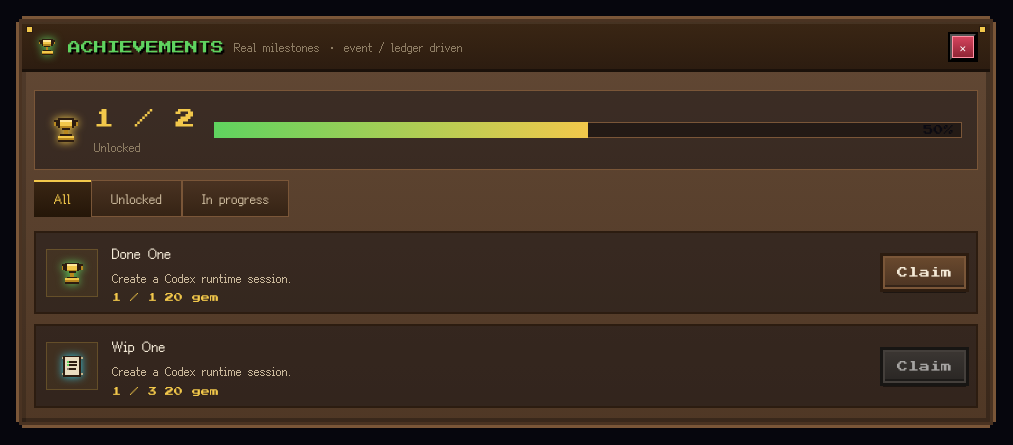
Test: tabs filter achievements by all / unlocked / progress
Expected: the text "Done One" is shown, [112,243,172,264]
Expected: the text "Wip One" is shown, [112,336,166,357]
# unlocked tab: only completed
Click the tab "Unlocked" at (137, 198), box [91,180,182,217]
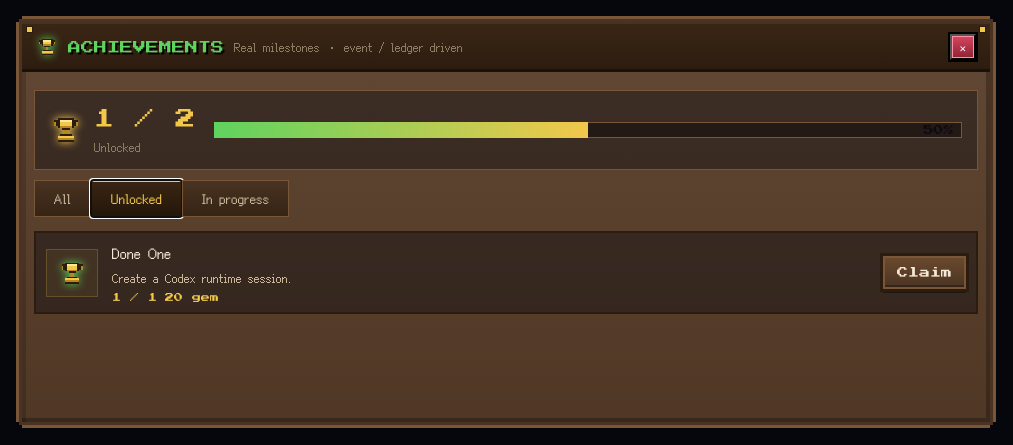
Expected: the text "Done One" is shown, [112,243,172,264]
Now the text "Wip One" is gone
# progress tab: only not-completed
Click the tab "In progress" at (236, 198), box [182,180,290,217]
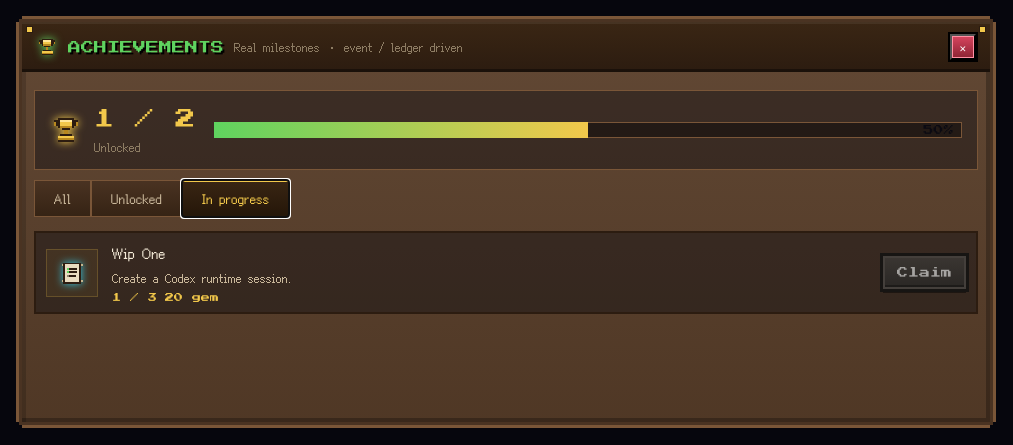
Now the text "Done One" is gone
Now the text "Wip One" is shown, box [112,243,166,264]
